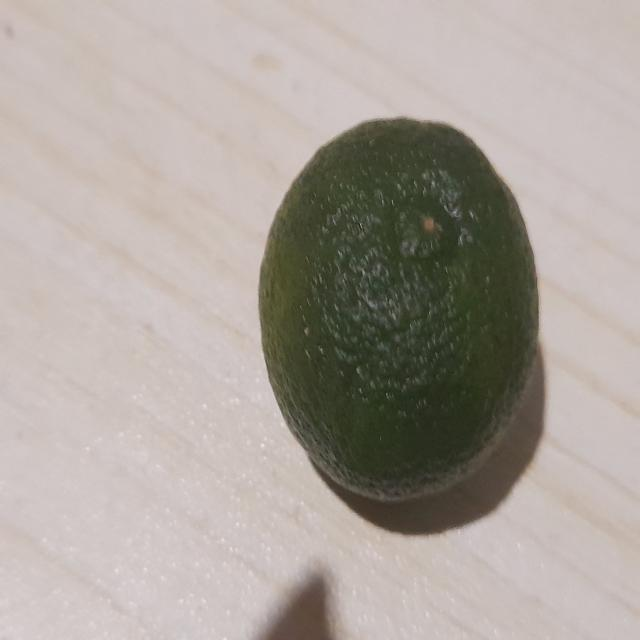heathy: (260, 105, 550, 512)
